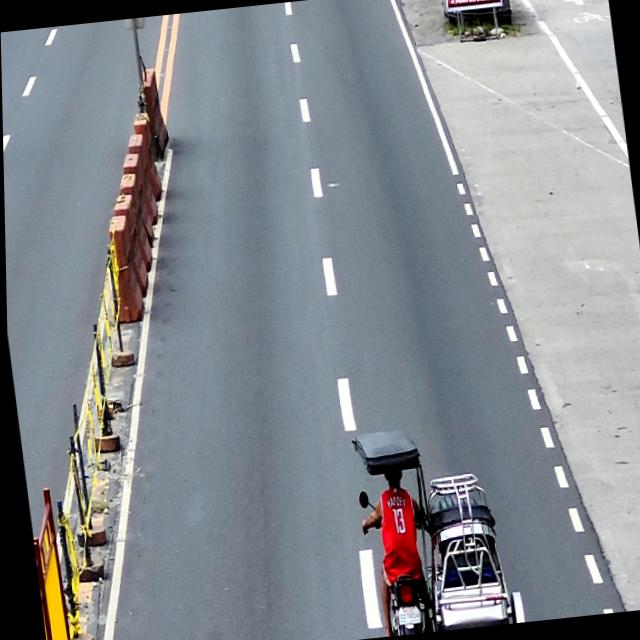License-Plate: (393, 604, 418, 626)
Tricycle: (348, 414, 523, 638)
